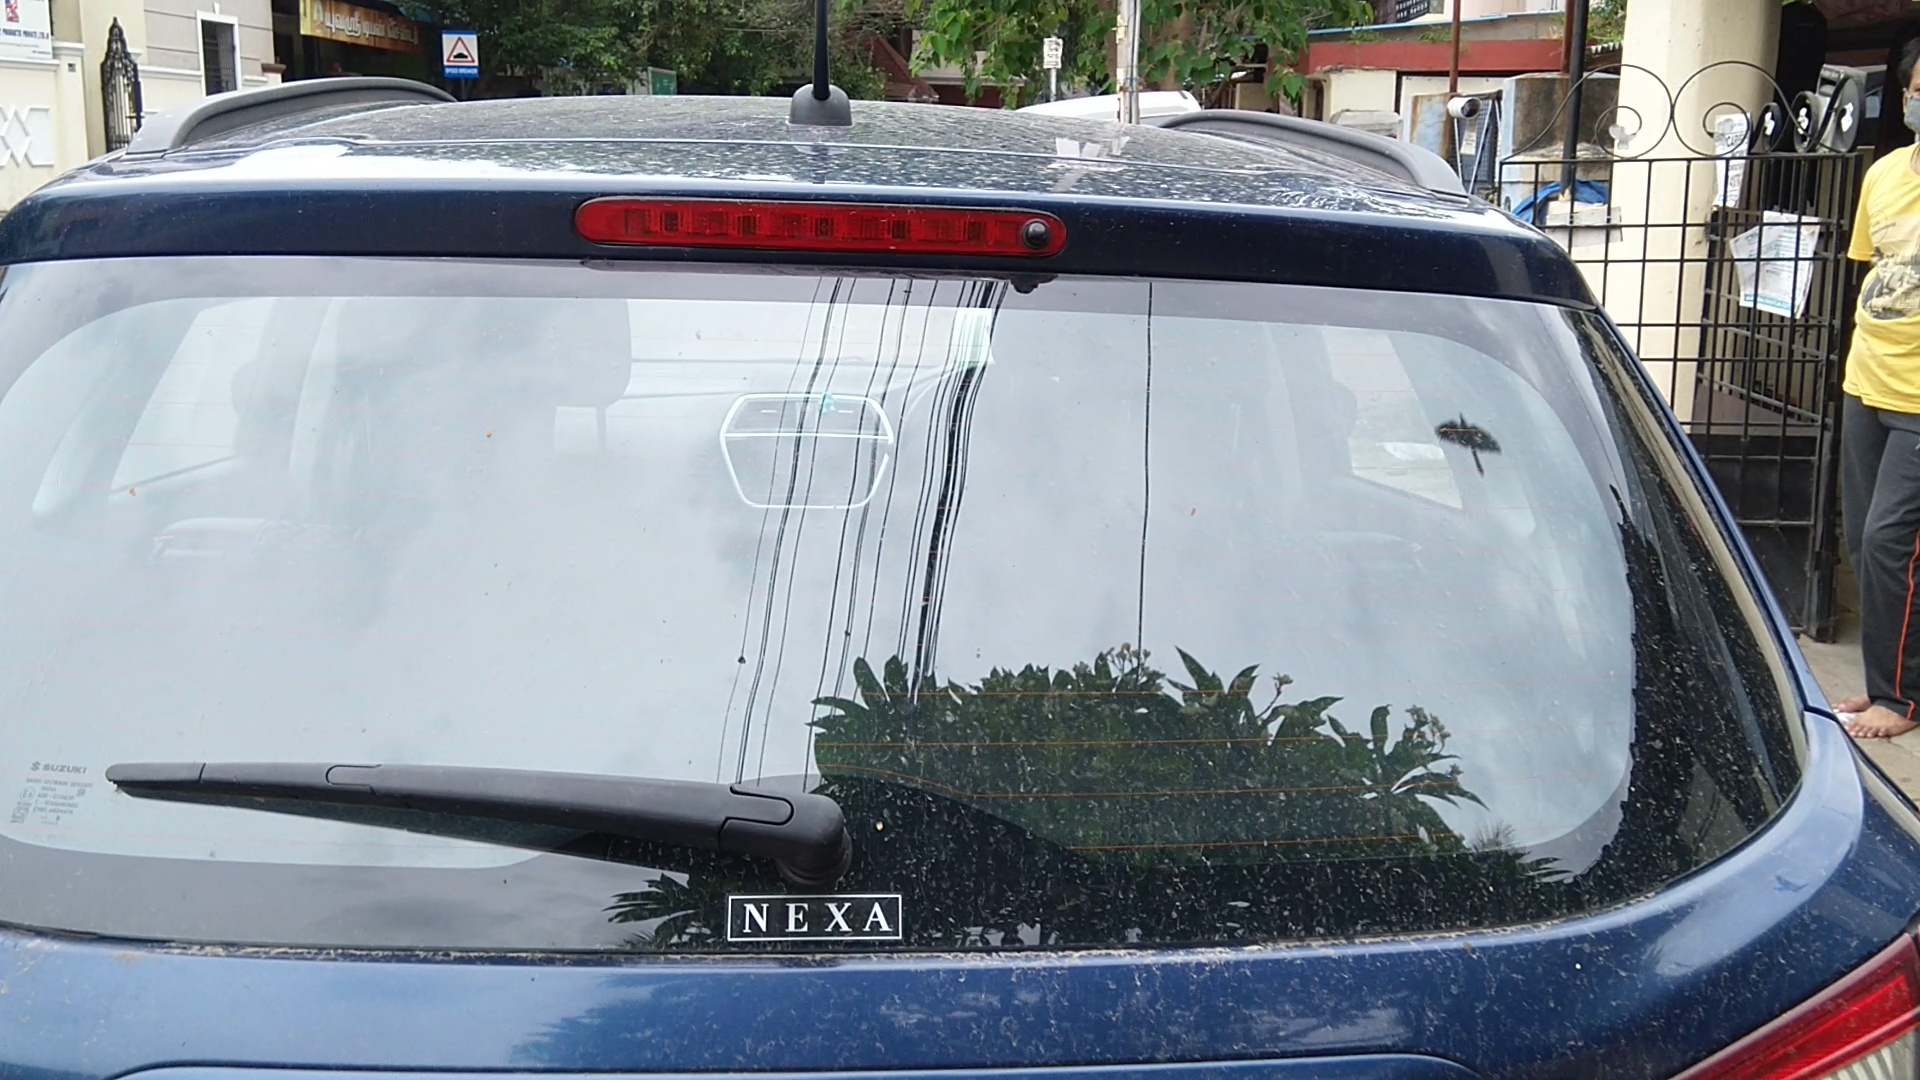rear_camera: (1021, 214, 1055, 255)
